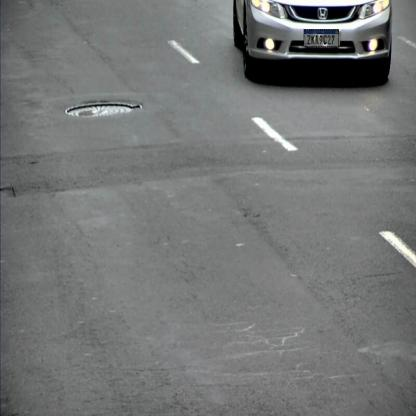PlacaM: (304, 29, 339, 47)
